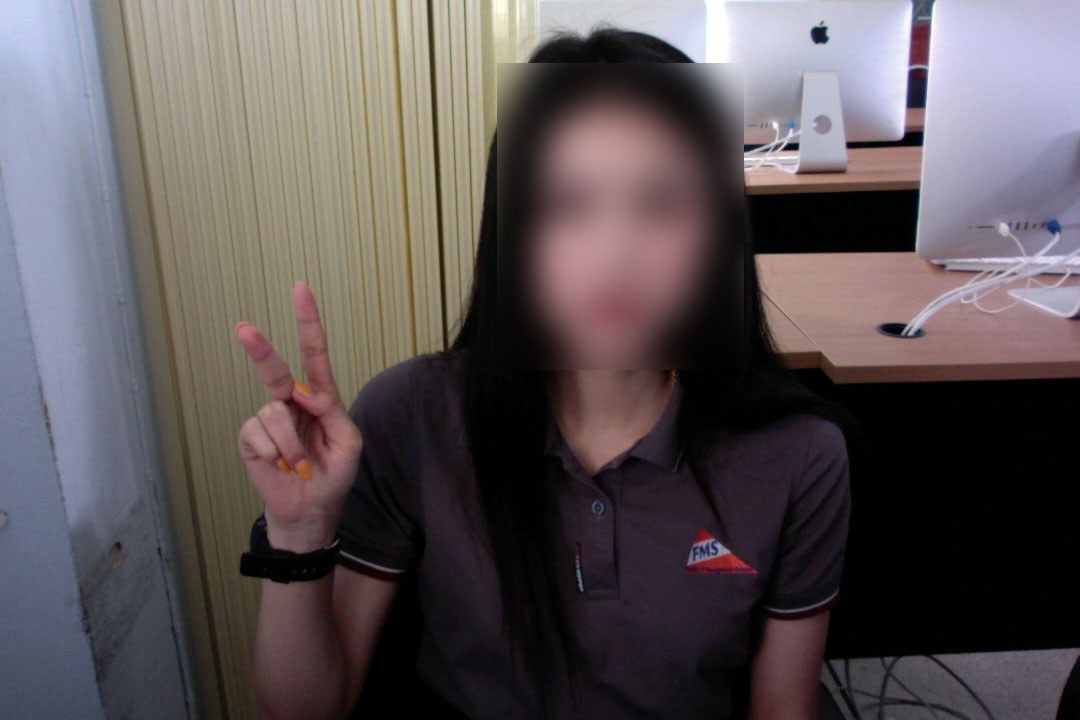ko: (220, 269, 374, 559)
